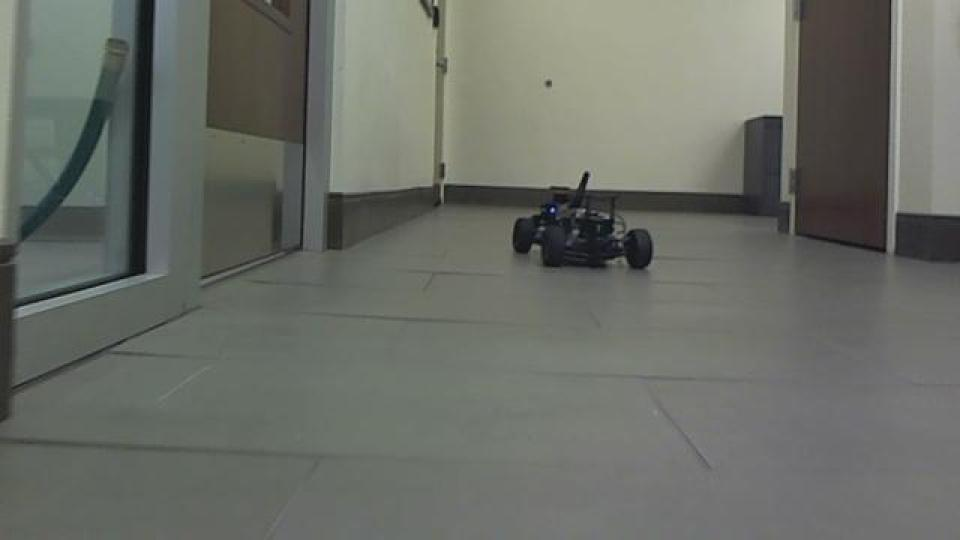car: (507, 168, 655, 273)
